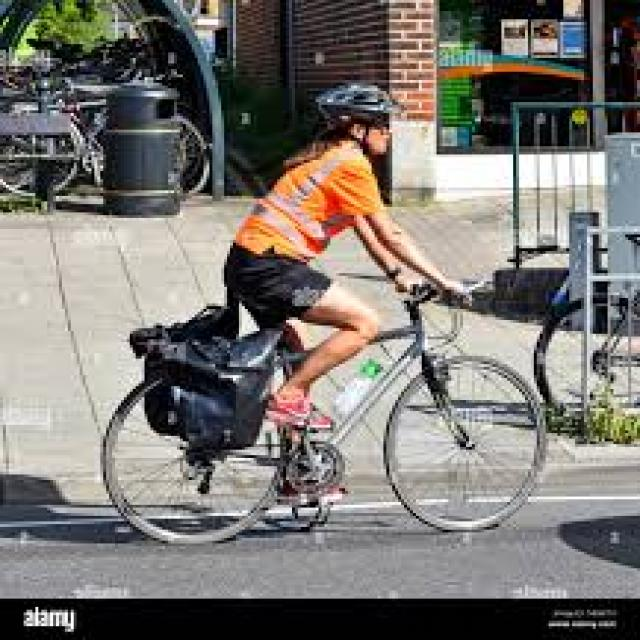Reflective-Jacket: (218, 141, 392, 276)
Safety-Helmet: (304, 72, 410, 138)
